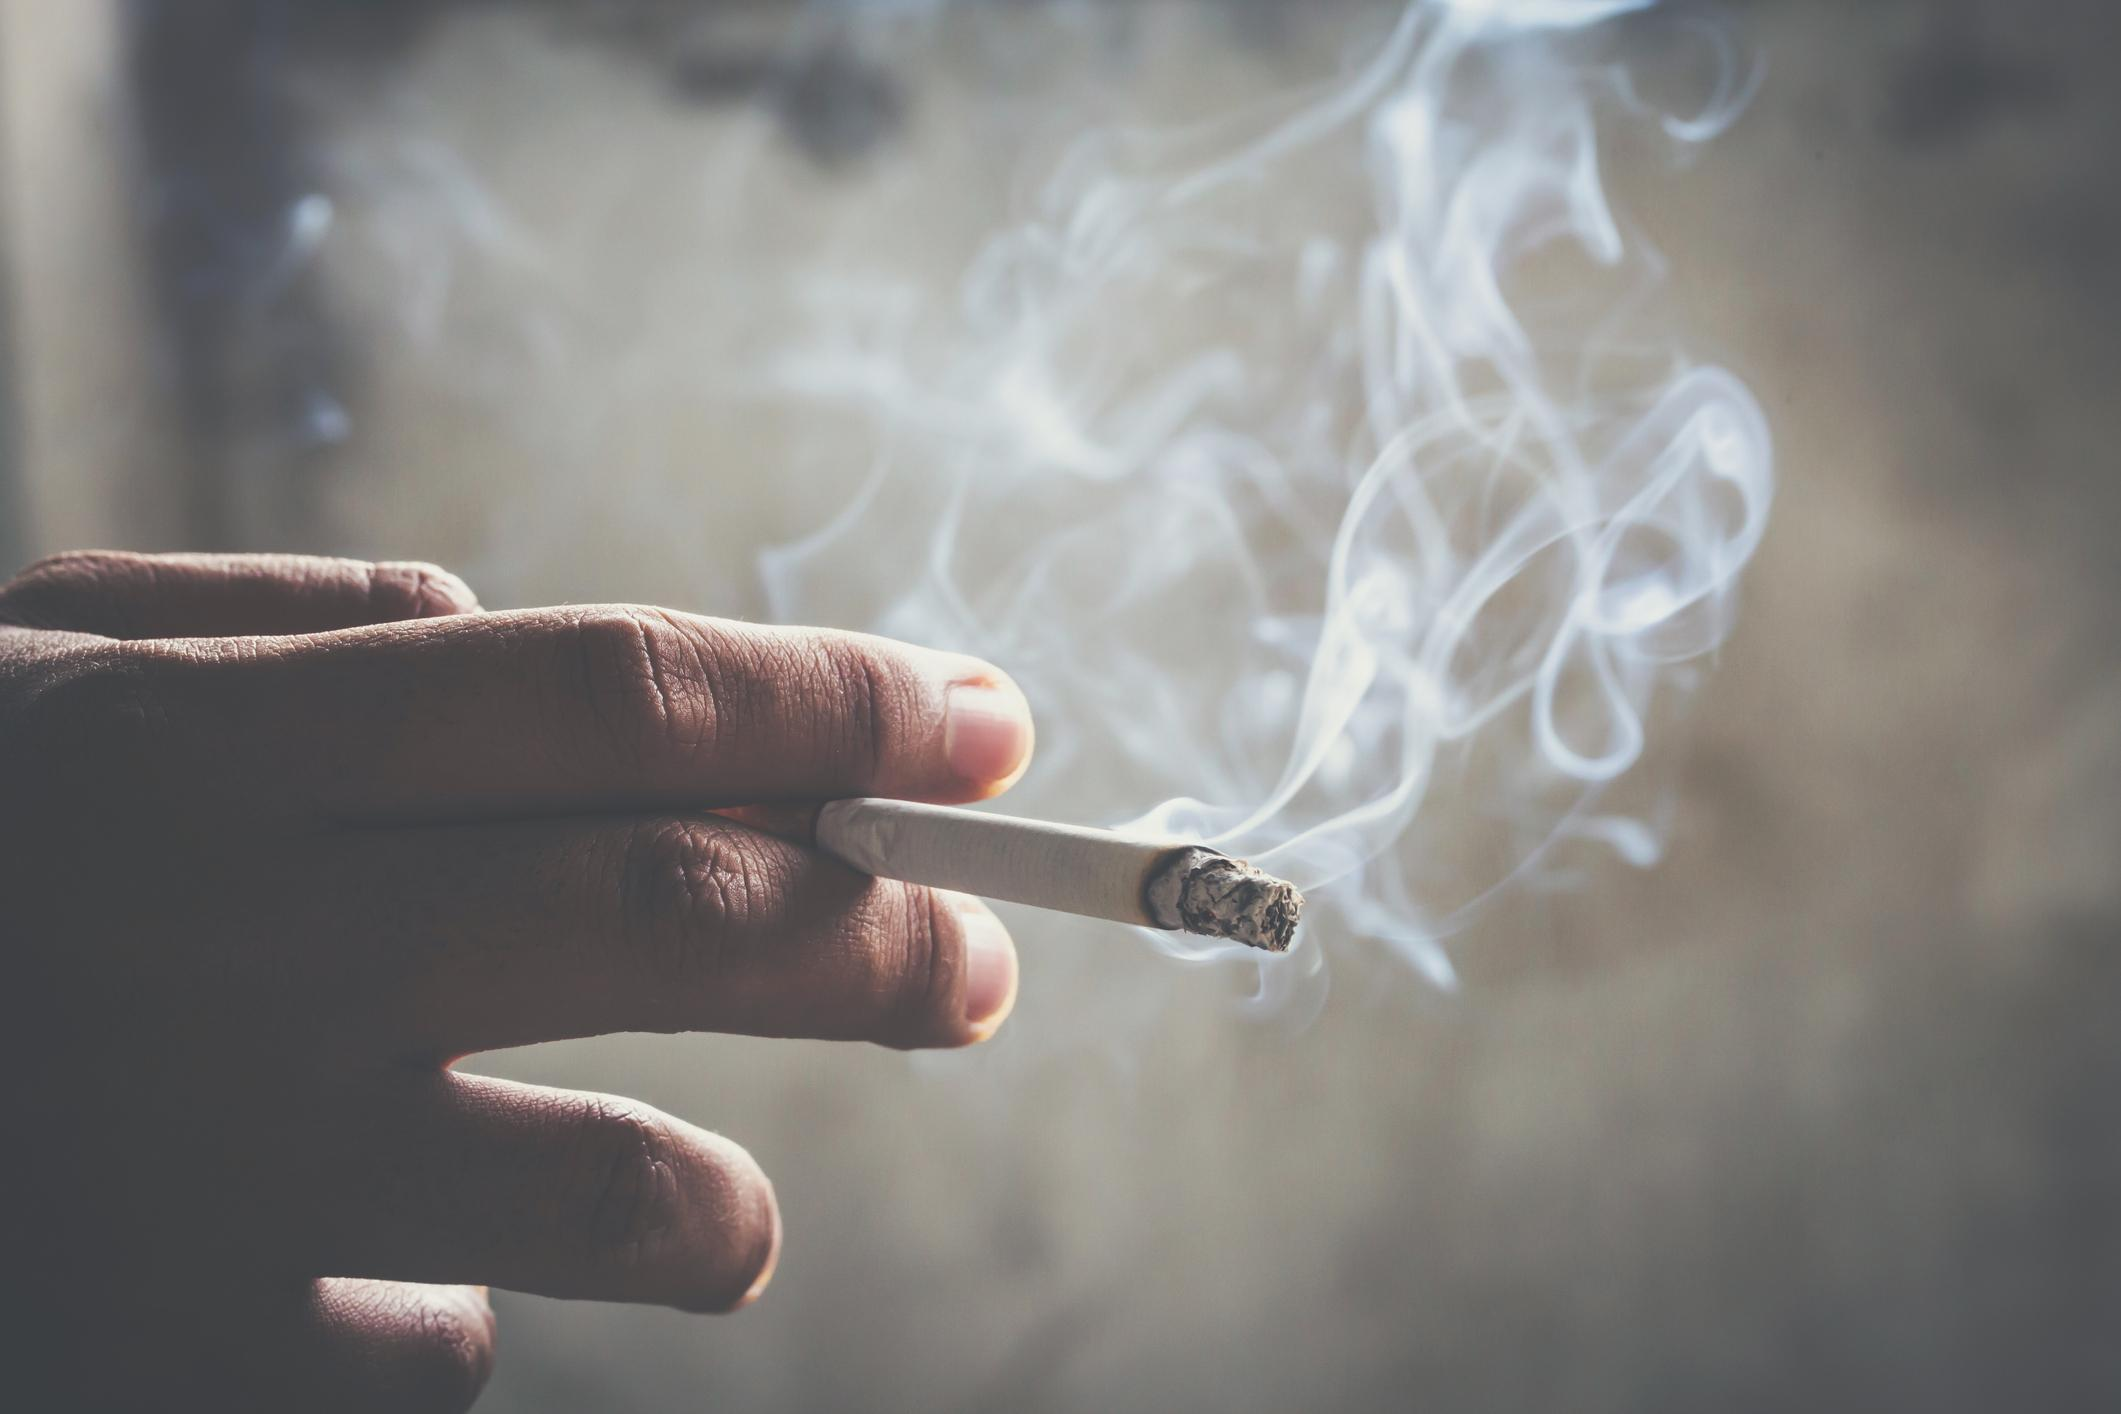smoke: (674, 769, 1308, 956)
